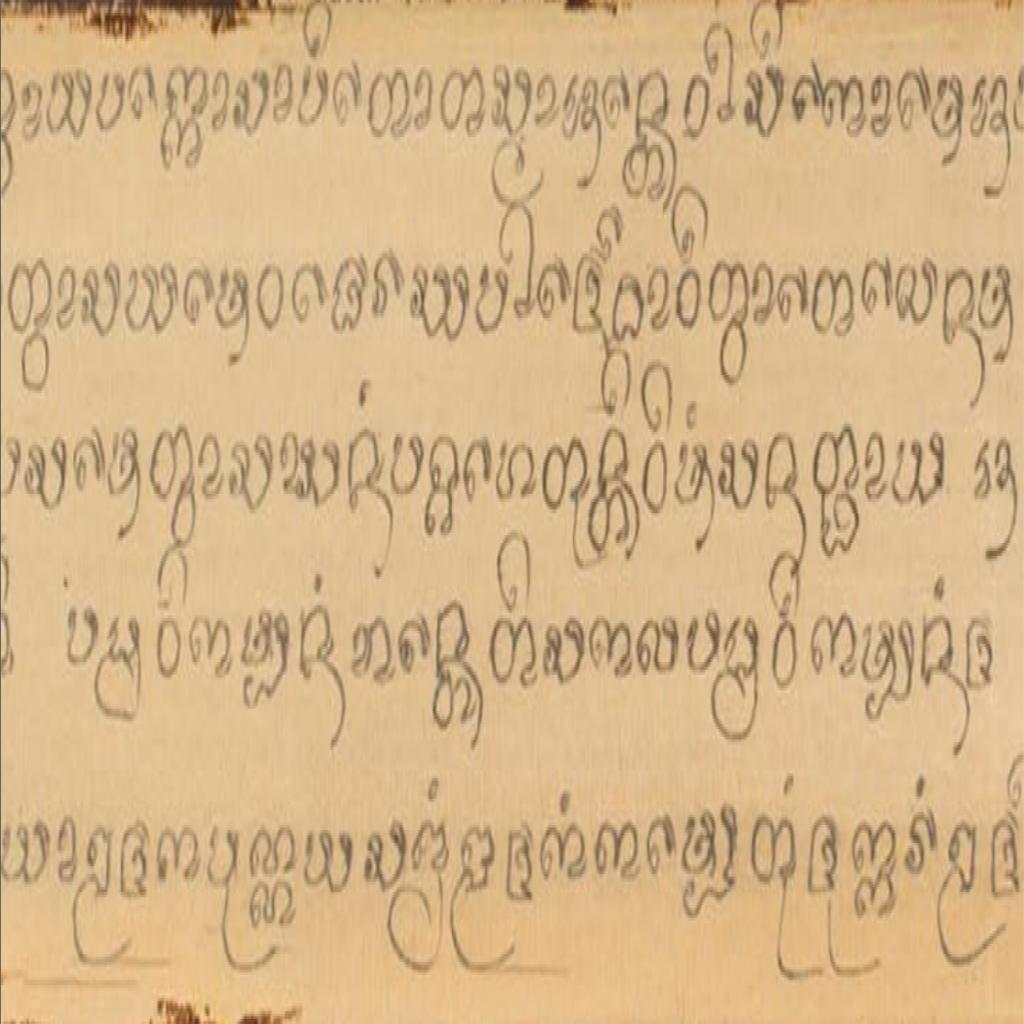LN021: (806, 811, 841, 901)
